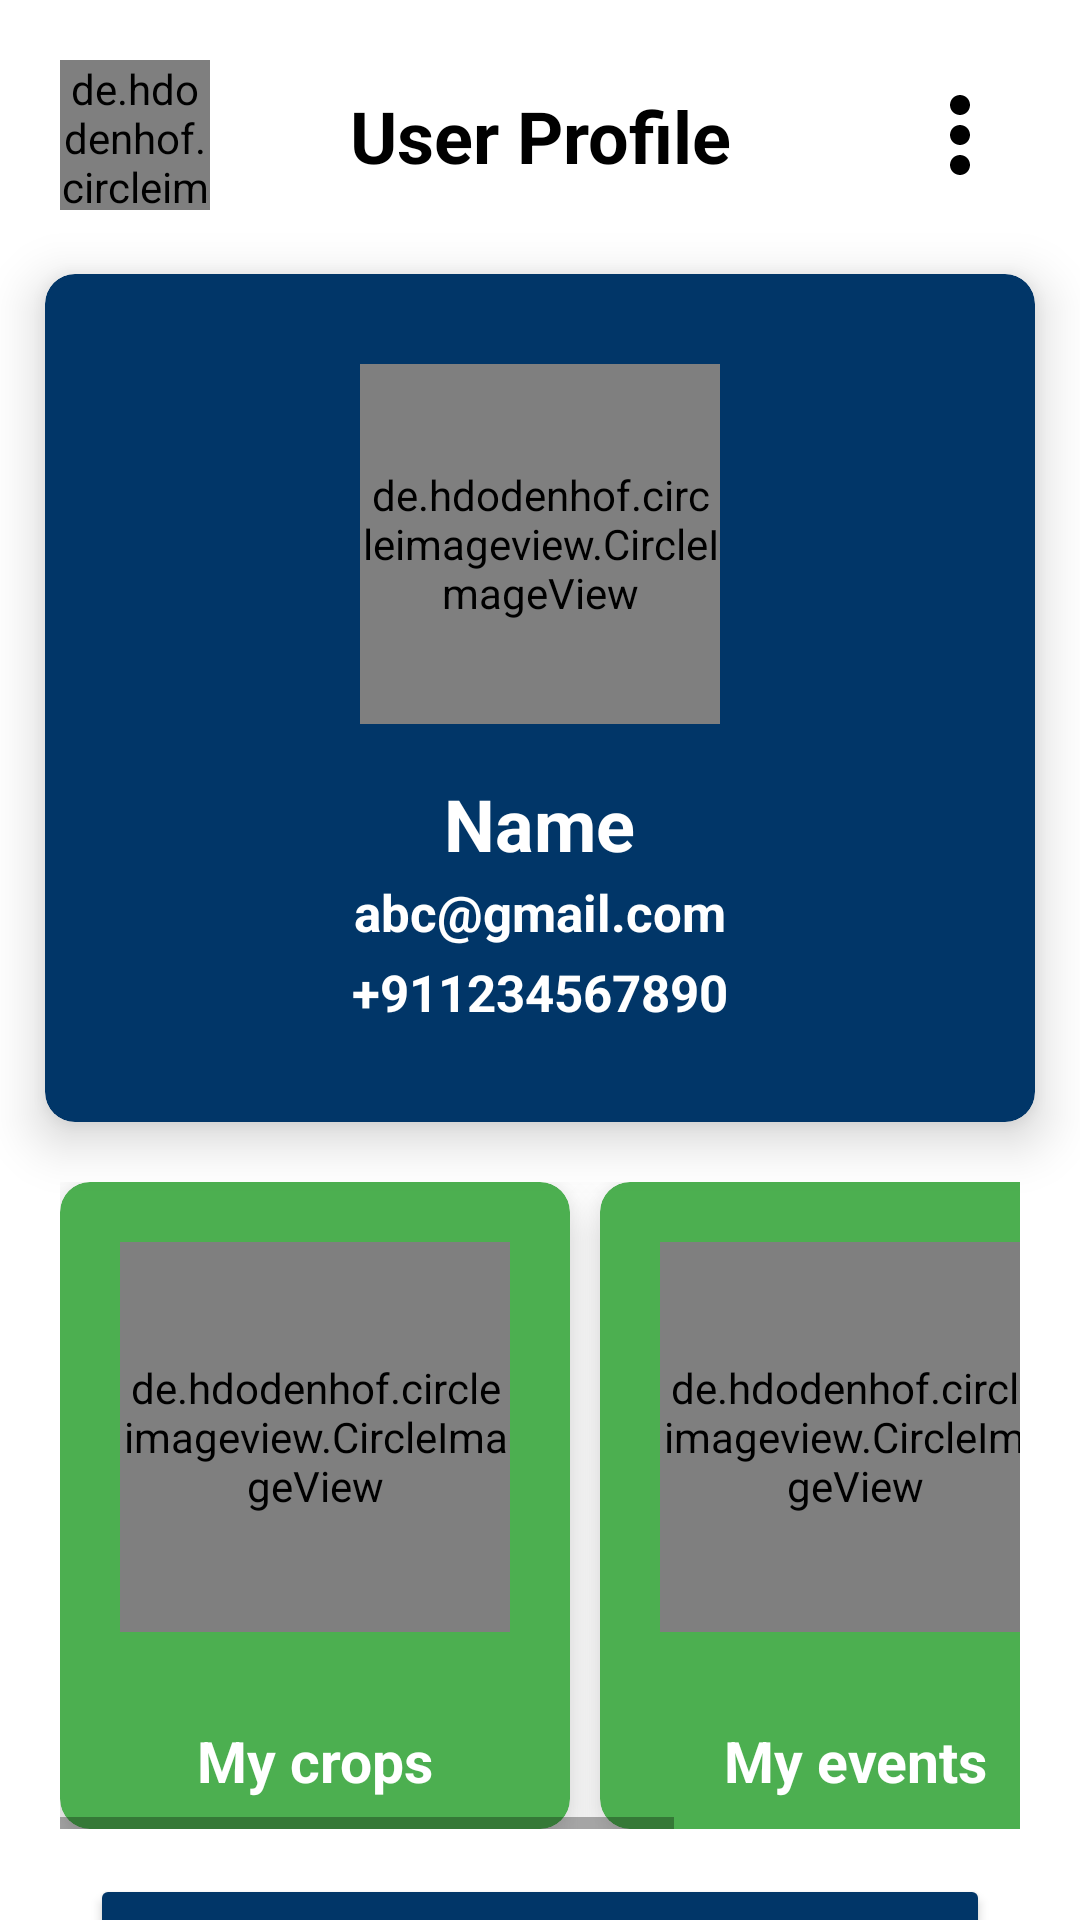

Icon bounding boxes for this 1080px×1920px phone screenshot, format (x1, y1, x2, y2):
more: (950, 95, 970, 175)
